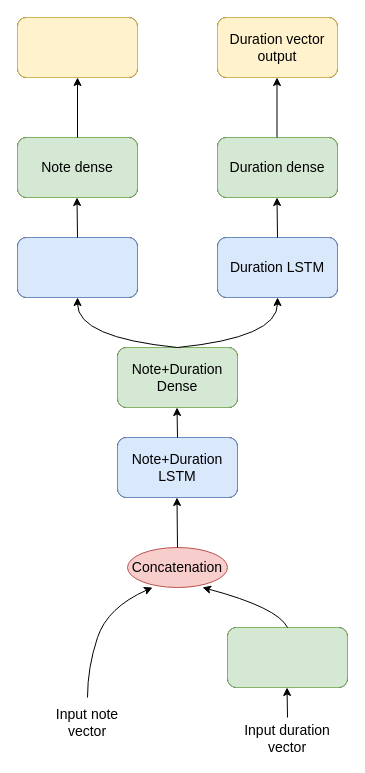
This 365x773 diagram has some shape labels left out. The shapes that lost their labels are listed below. From the top down, each one's centre as x and y in pixels, then its label:
At point 77,47: "Note vector output".
At point 77,267: "Note LSTM".
At point 287,657: "Duration input dense".
